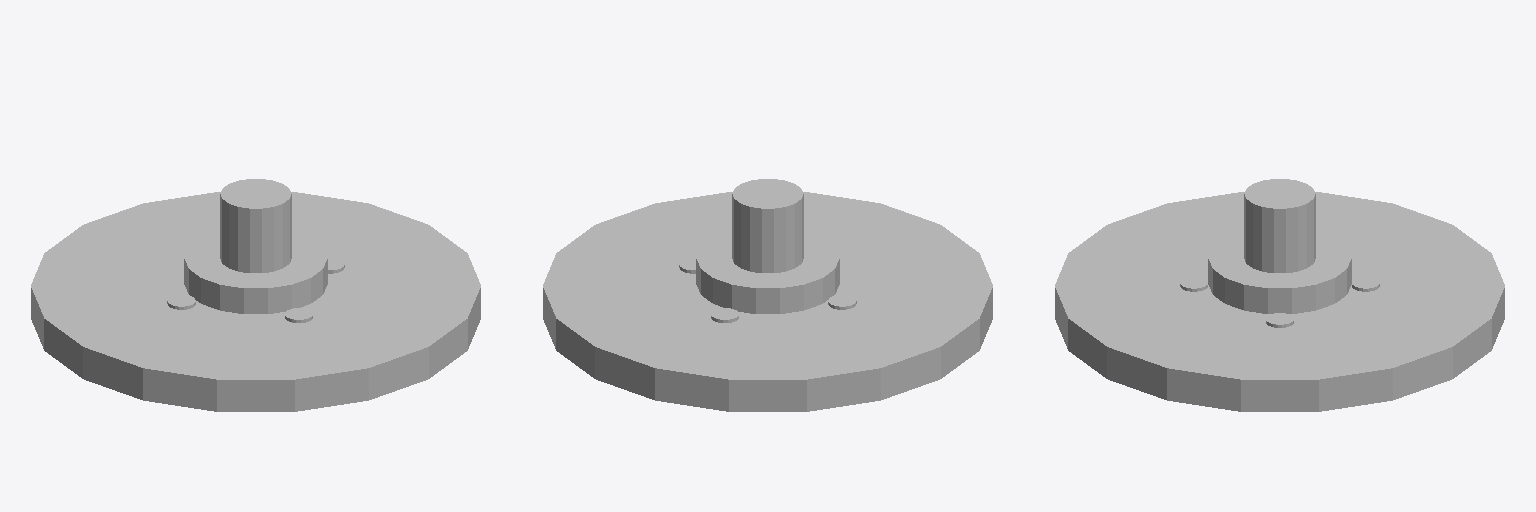
Rendered from rotator.obj.
The picture shows the model from 3 angles: view 1: azimuth 30°, elevation 25°; view 2: azimuth 150°, elevation 25°; view 3: azimuth 270°, elevation 25°; orthographic projection.
Parts seen in each view (by area): view 1: VCyl019, VCyl025, Cylinder001; view 2: VCyl019, VCyl025, Cylinder001; view 3: VCyl019, VCyl025, Cylinder001.
Part boxes in pixels (x1,y1,x2,y2): VCyl019: (31, 192, 480, 411); VCyl025: (184, 233, 327, 313); Cylinder001: (220, 179, 291, 272); VCyl019: (543, 192, 992, 411); VCyl025: (696, 233, 839, 313); Cylinder001: (732, 179, 803, 272); VCyl019: (1055, 192, 1504, 411); VCyl025: (1208, 233, 1351, 313); Cylinder001: (1244, 179, 1315, 272).
Bounding box in the file's own units: 62.04 × 19.2 × 63.